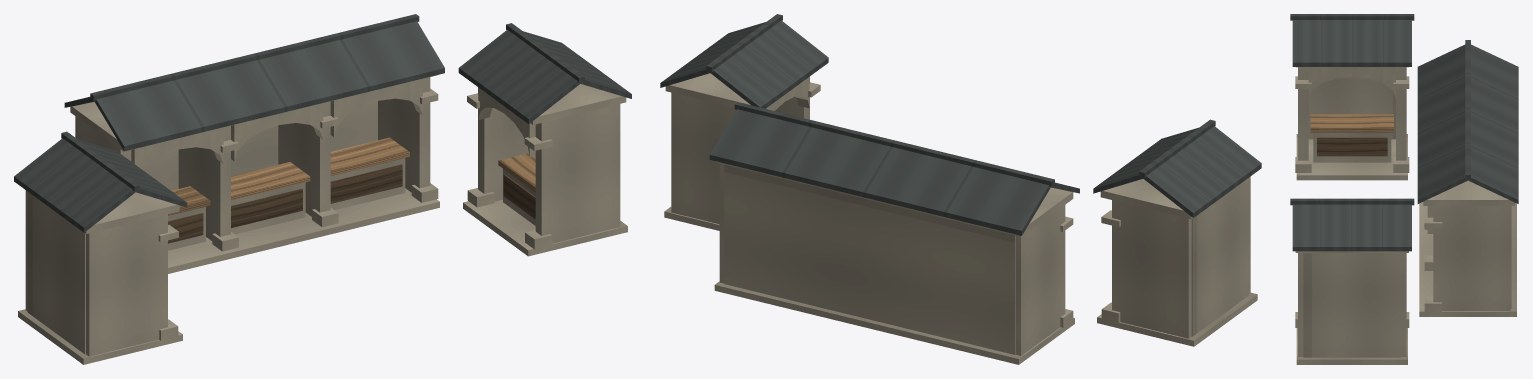
3 renders of one model, left to right at view 1: azimuth 30°, elevation 25°; view 2: azimuth 150°, elevation 25°; view 3: azimuth 270°, elevation 25°, orthographic. The views are drawn at different scales.
Visible parts, largest first — view 1: ho-chi-minh-city; view 2: ho-chi-minh-city; view 3: ho-chi-minh-city.
Boxes of the visible parts, <box> form: ho-chi-minh-city: <box>14,14,631,364</box>; ho-chi-minh-city: <box>660,14,1261,364</box>; ho-chi-minh-city: <box>1290,14,1518,364</box>.
Bounding box in the file's own units: 7.4 × 2.19 × 3.14.
1 material, 1 textured.
